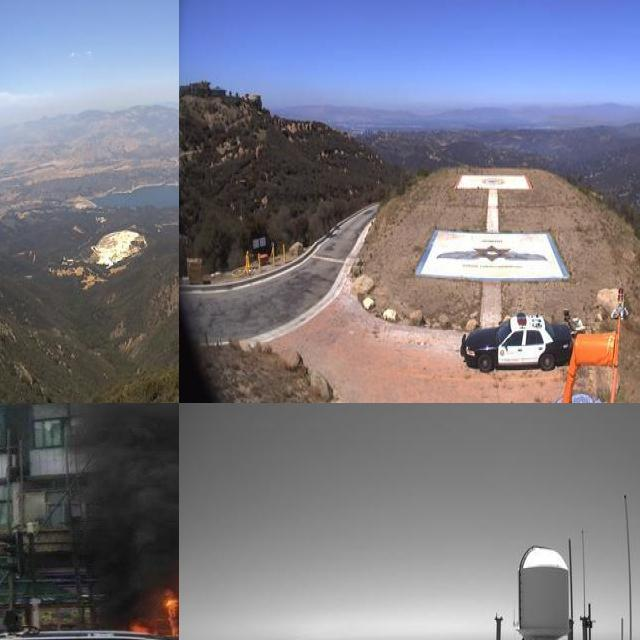smoke: (70, 403, 179, 591)
